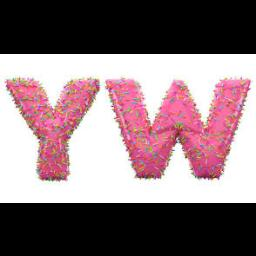y: (104, 72, 254, 186), (5, 74, 105, 188)
